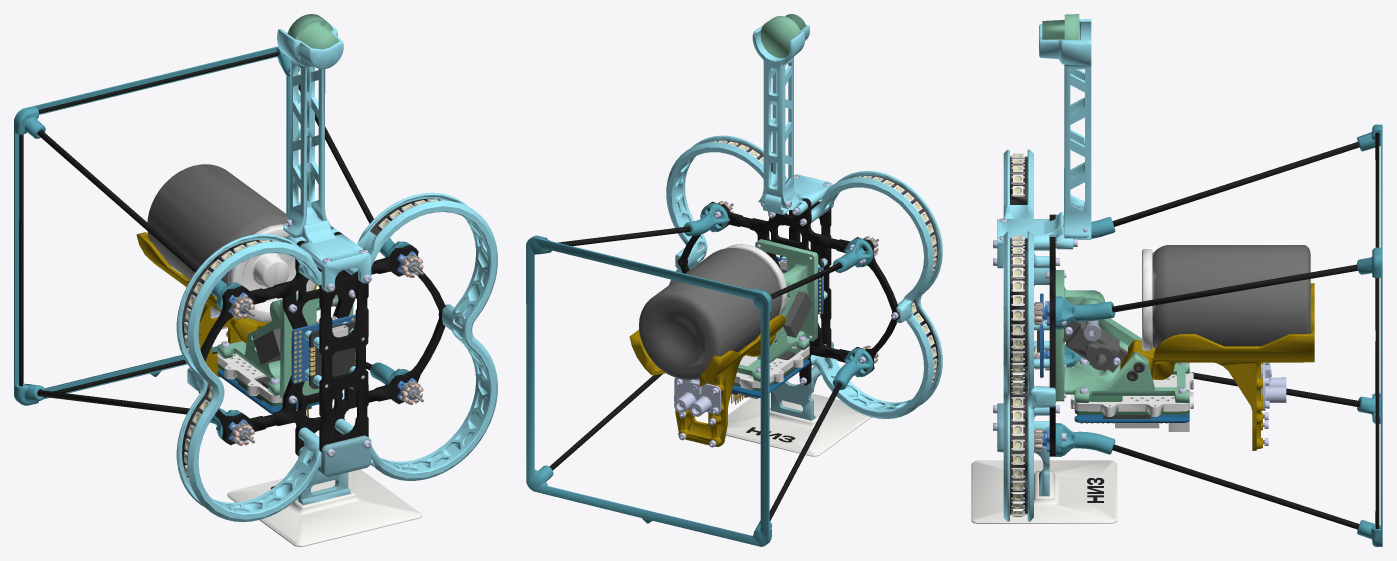
Rendered from obrik_graffiti_clean.obj.
The picture shows the model from 3 angles, left to right: view 1: azimuth 30°, elevation 25°; view 2: azimuth 150°, elevation 25°; view 3: azimuth 270°, elevation 25°; orthographic projection. The views are drawn at different scales.
Visible parts, largest first — view 1: Графитчик+Тяж+2.00; view 2: Графитчик+Тяж+2.00; view 3: Графитчик+Тяж+2.00.
Part boxes in pixels (bbox=[...]): Графитчик+Тяж+2.00: bbox=[14, 14, 497, 546]; Графитчик+Тяж+2.00: bbox=[526, 14, 942, 546]; Графитчик+Тяж+2.00: bbox=[971, 14, 1382, 546].
Bounding box in the file's own units: 0.1706 × 0.2515 × 0.1967.
